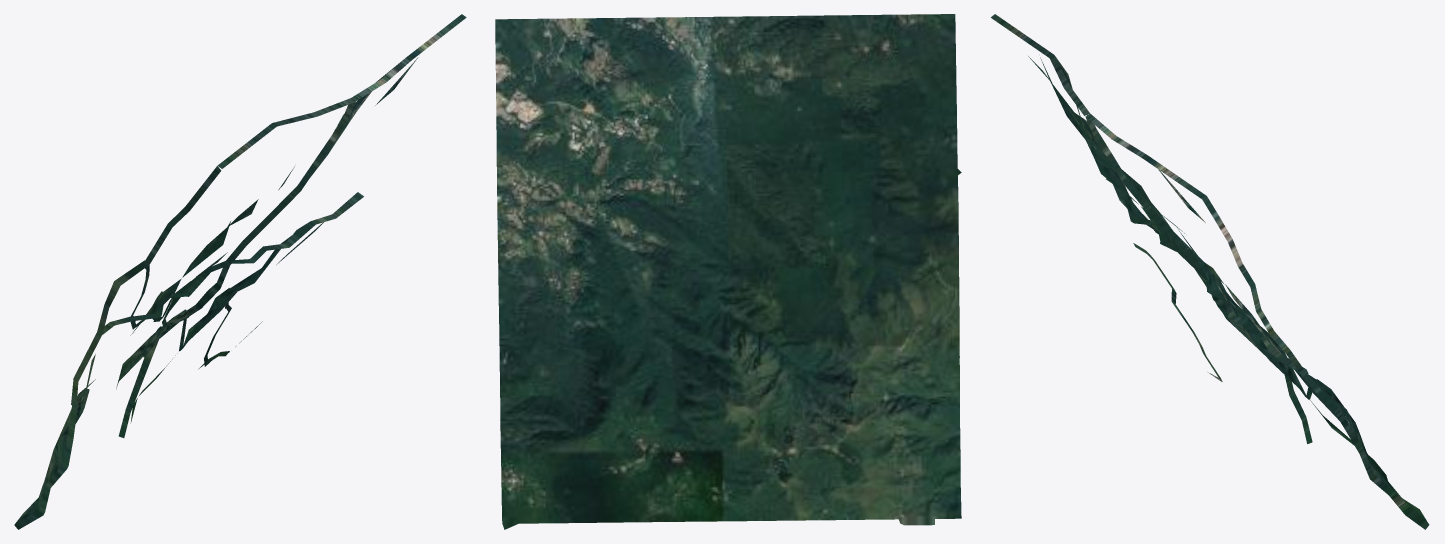
The picture shows the model from 3 angles, left to right: view 1: azimuth 30°, elevation 25°; view 2: azimuth 150°, elevation 25°; view 3: azimuth 270°, elevation 25°; orthographic projection.
Size of the model in its own units: 5131 by 4379 by 4315.
1 material, 1 textured.
